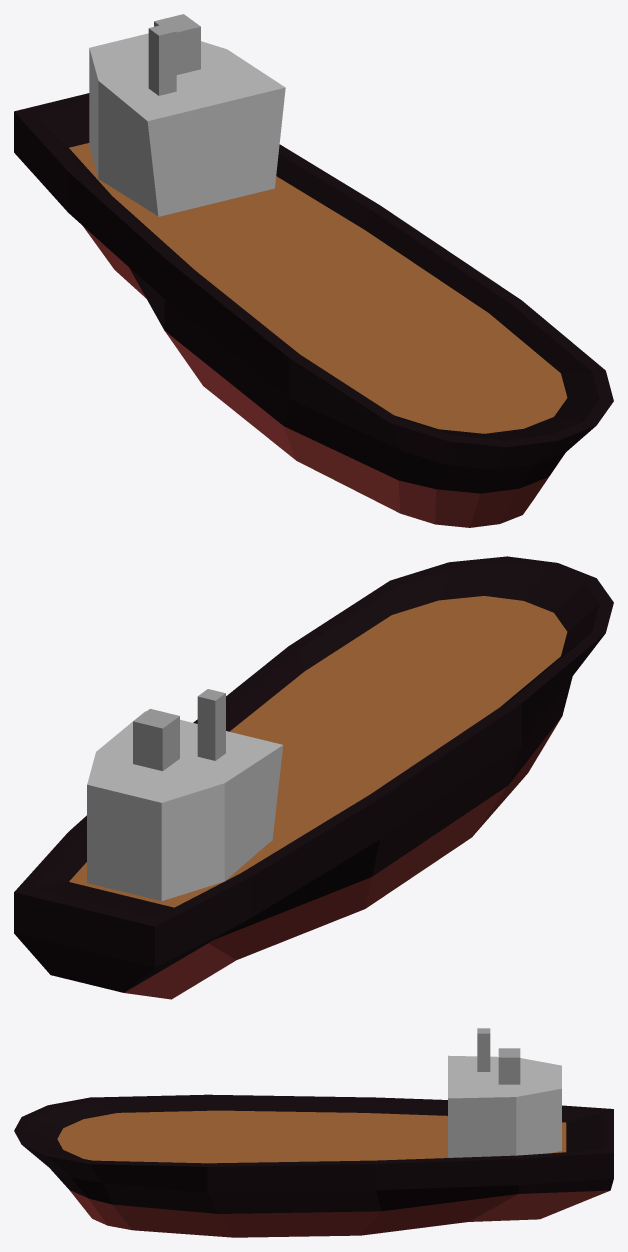
File: oil_tank.glb
3 renders of one model, top to bottom at view 1: azimuth 30°, elevation 25°; view 2: azimuth 150°, elevation 25°; view 3: azimuth 270°, elevation 25°, orthographic. The views are drawn at different scales.
Visible parts, largest first — view 1: Cube.166; view 2: Cube.166; view 3: Cube.166.
Boxes of the visible parts, box(x1,y1,x2,y2) form: Cube.166: box(14, 14, 613, 527); Cube.166: box(14, 556, 613, 999); Cube.166: box(14, 1028, 613, 1237).
Size of the model in its own units: 2 by 2.22 by 7.03.
